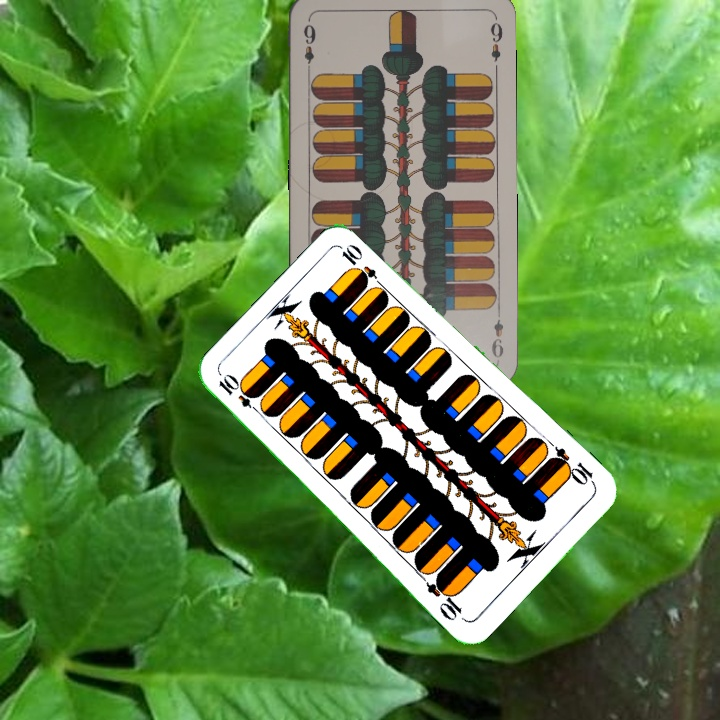E10: (546, 443, 599, 489), (214, 372, 265, 418)
E9: (299, 17, 318, 76), (488, 306, 507, 361)
